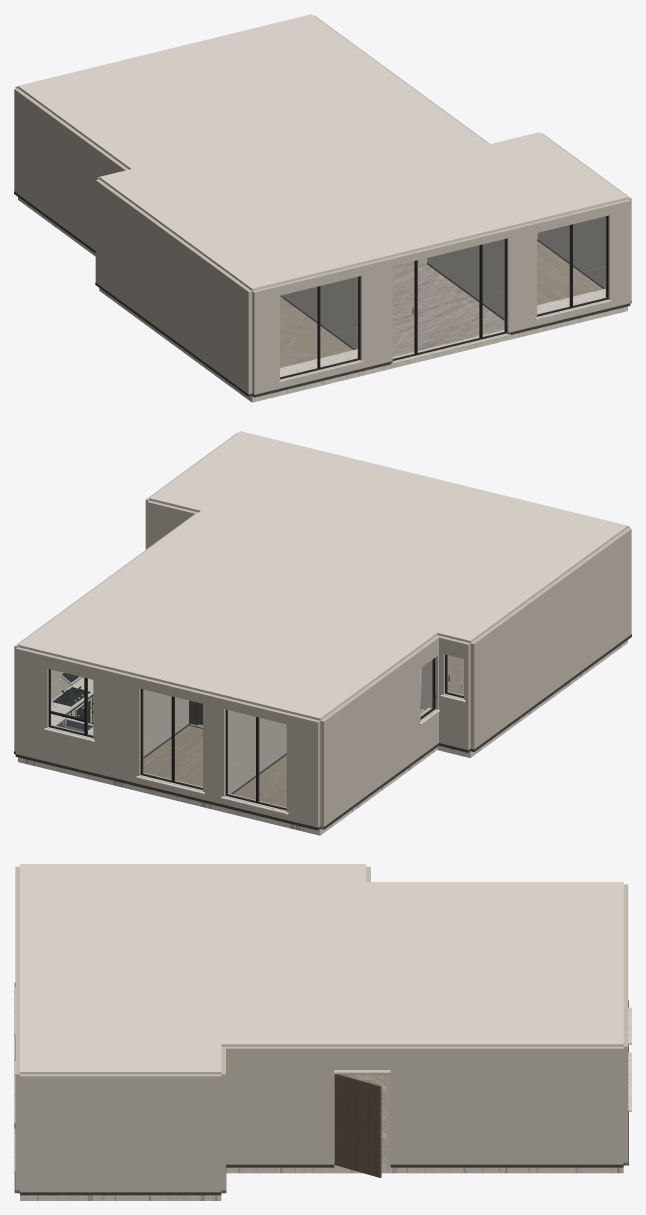
Rendered from apartment-v04.glb.
3 views of the same model, one above another, from view 1: azimuth 30°, elevation 25°; view 2: azimuth 150°, elevation 25°; view 3: azimuth 270°, elevation 25° (orthographic). The views are drawn at different scales.
Visible parts, largest first — view 1: Ceiling_main, wall_west_south_0_0_upper, Continuous_public_stone, wall_west_south_0_0_lower, wall_west_north_0_0_upper, wall_west_north_0_0_lower, Living_south_glass_upper.001, Apartment_floor_slab, floor_master, Living_south_glass_lower.001, wall_living_se_2_0_lower, wall_master_living_4_0_lower (+33 smaller); view 2: Ceiling_main, wall_west_south_0_0_upper, wall_west_south_0_0_lower, wall_west_north_0_0_upper, wall_west_north_0_0_lower, wall_north_4_0_upper, Apartment_floor_slab, floor_xroom, wall_north_0_0_upper, wall_northwest_x_0_0_lower, wall_north_6_0_upper, wall_north_4_0_lower (+27 smaller); view 3: Ceiling_main, wall_east_north_0_0_upper, wall_east_south_0_0_upper, wall_east_north_0_0_lower, wall_east_south_0_0_lower, wall_east_elevator_0_0_upper, wall_east_elevator_0_0_lower, Apartment_floor_slab, door_entry_lower, door_entry_upper, wall_east_north_1_1_upper, skirting_east_north_0 (+4 smaller).
Part boxes in pixels (left/top/right/bottom): Ceiling_main: left=18, top=14, right=627, bottom=290; wall_west_south_0_0_upper: left=95, top=179, right=252, bottom=353; Continuous_public_stone: left=282, top=258, right=568, bottom=357; wall_west_south_0_0_lower: left=95, top=242, right=252, bottom=393; wall_west_north_0_0_upper: left=14, top=88, right=111, bottom=209; wall_west_north_0_0_lower: left=14, top=151, right=95, bottom=250; Living_south_glass_upper.001: left=418, top=246, right=479, bottom=311; Apartment_floor_slab: left=18, top=197, right=627, bottom=402; floor_master: left=280, top=296, right=352, bottom=367; Living_south_glass_lower.001: left=418, top=298, right=479, bottom=352; wall_living_se_2_0_lower: left=427, top=249, right=504, bottom=318; wall_master_living_4_0_lower: left=282, top=285, right=357, bottom=349; Ceiling_main: left=18, top=431, right=627, bottom=720; wall_west_south_0_0_upper: left=470, top=528, right=631, bottom=707; wall_west_south_0_0_lower: left=470, top=593, right=631, bottom=749; wall_west_north_0_0_upper: left=320, top=650, right=420, bottom=785; wall_west_north_0_0_lower: left=320, top=715, right=420, bottom=829; wall_north_4_0_upper: left=93, top=666, right=143, bottom=742; Apartment_floor_slab: left=18, top=640, right=627, bottom=835; floor_xroom: left=143, top=725, right=202, bottom=786; wall_north_0_0_upper: left=286, top=713, right=320, bottom=785; wall_northwest_x_0_0_lower: left=228, top=721, right=286, bottom=793; wall_north_6_0_upper: left=16, top=647, right=51, bottom=719; wall_north_4_0_lower: left=93, top=731, right=143, bottom=783; Ceiling_main: left=20, top=864, right=623, bottom=1074; wall_east_north_0_0_upper: left=390, top=1046, right=623, bottom=1118; wall_east_south_0_0_upper: left=20, top=1074, right=221, bottom=1146; wall_east_north_0_0_lower: left=390, top=1118, right=623, bottom=1164; wall_east_south_0_0_lower: left=20, top=1146, right=221, bottom=1192; wall_east_elevator_0_0_upper: left=221, top=1046, right=328, bottom=1118; wall_east_elevator_0_0_lower: left=226, top=1118, right=328, bottom=1164; Apartment_floor_slab: left=20, top=1165, right=623, bottom=1200; door_entry_lower: left=334, top=1117, right=381, bottom=1177; door_entry_upper: left=334, top=1074, right=381, bottom=1130; wall_east_north_1_1_upper: left=334, top=1046, right=390, bottom=1069; skirting_east_north_0: left=390, top=1164, right=623, bottom=1167.
Size of the model in its own units: 10.72 by 3.04 by 13.2.
30 materials, 14 textured.
